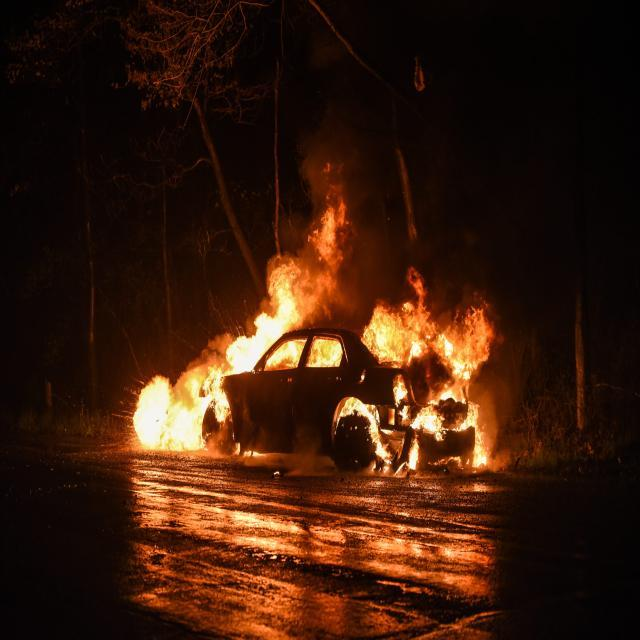Fire: (340, 266, 498, 479), (229, 199, 349, 371), (136, 330, 226, 454)
Smoke: (300, 100, 486, 340)
